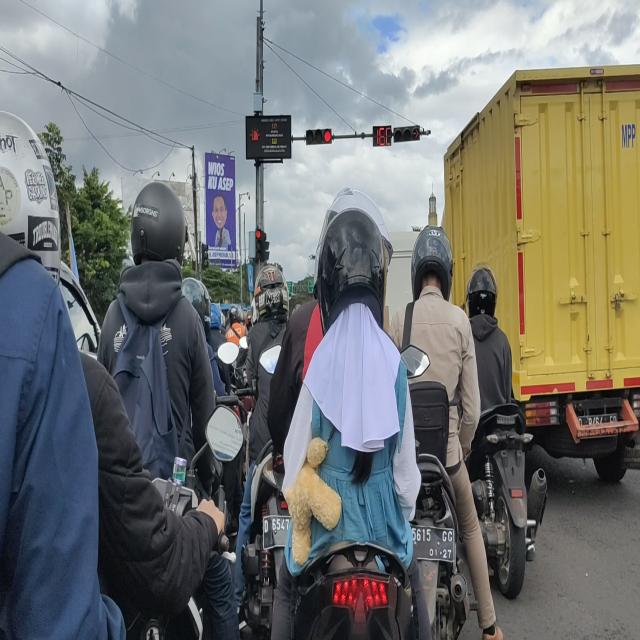helmet: (0, 110, 62, 292), (316, 208, 383, 322), (126, 181, 187, 267), (414, 220, 454, 300), (254, 264, 290, 332), (184, 280, 213, 334), (468, 268, 498, 319), (229, 306, 240, 325)
